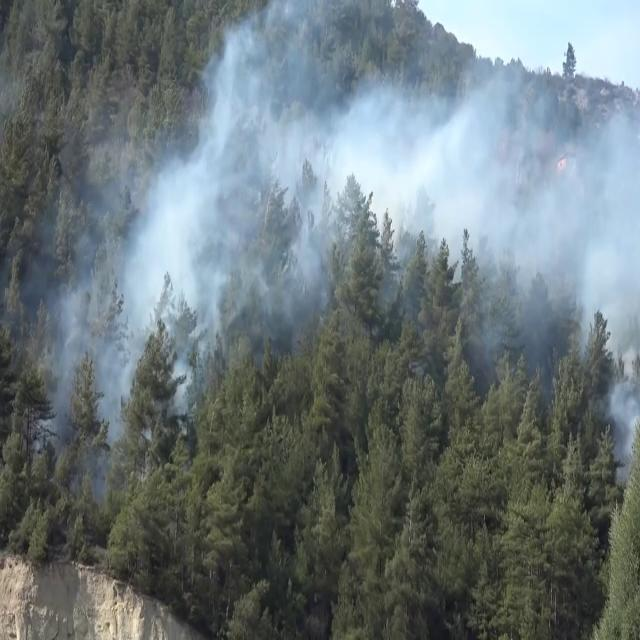Smoke: (253, 26, 640, 283), (143, 183, 230, 308)
